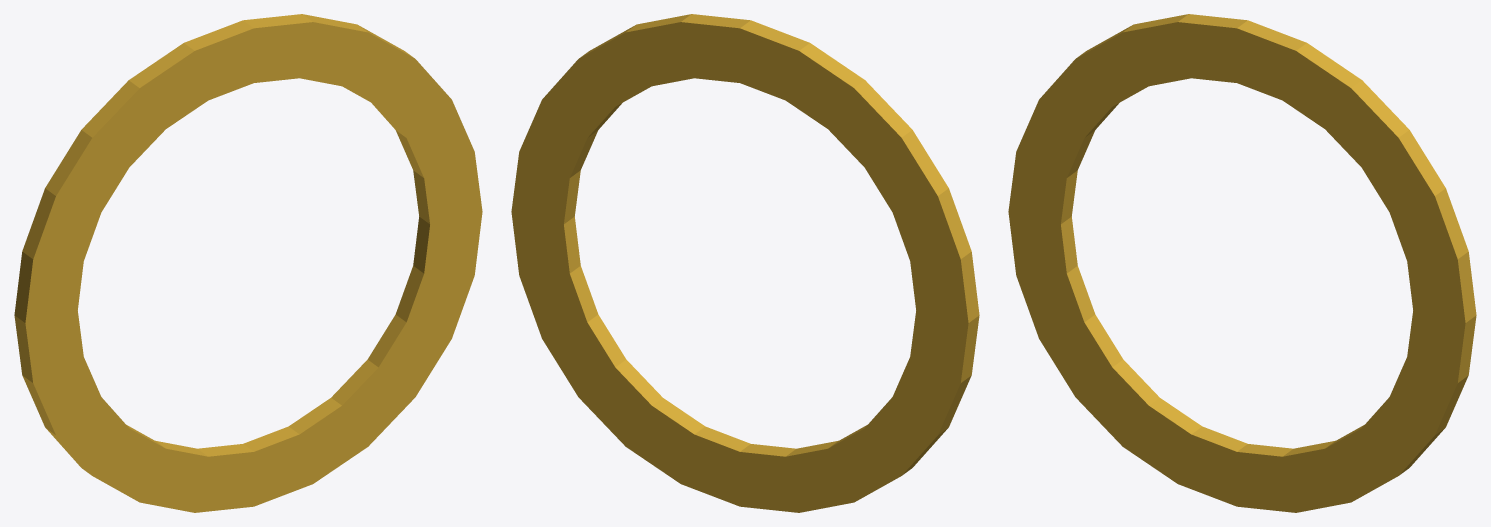
File: SM_SelectionRing.obj
3 views of the same model, side by side, from view 1: azimuth 30°, elevation 25°; view 2: azimuth 150°, elevation 25°; view 3: azimuth 330°, elevation 25° (orthographic).
Visible parts, largest first — view 1: SM_SelectionRing; view 2: SM_SelectionRing; view 3: SM_SelectionRing.
Boxes of the visible parts, x1,y1,x2,y2 form: SM_SelectionRing: (14,14,482,512); SM_SelectionRing: (511,14,979,512); SM_SelectionRing: (1008,14,1476,512).
Size of the model in its own units: 192 by 192 by 8.
